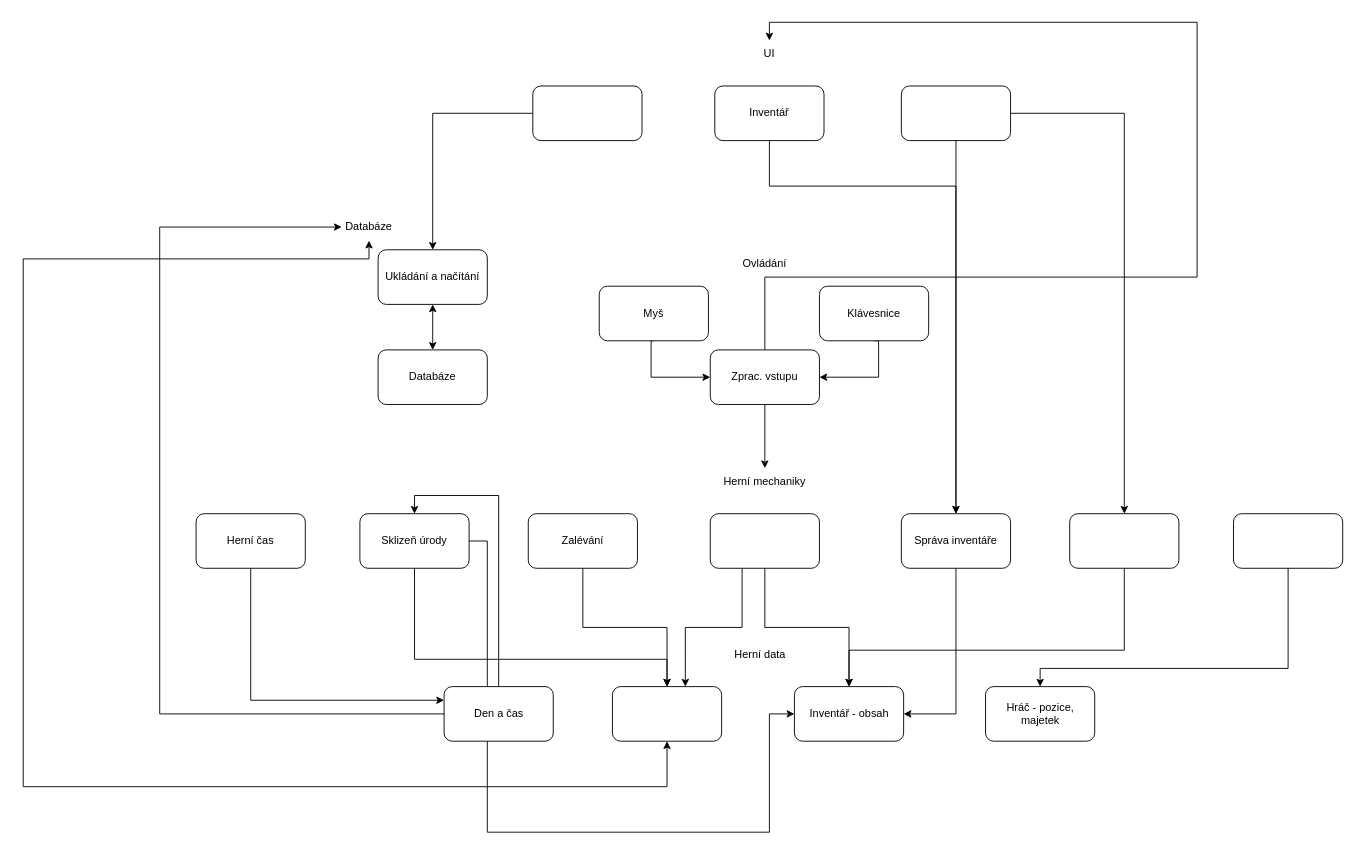
Image size: 1359x855. Some labels were removed from this diagram. The shapes that lost their labels are listed below. From the top down, each one's box as (x1, y1, x2, y2) in pixels, then its label:
(532, 85, 642, 141): Hlavní menu
(900, 85, 1011, 141): Obchod
(709, 513, 819, 568): Farmaření (sázení věcí)
(1069, 513, 1179, 568): Nákup, prodej věcí
(1233, 513, 1343, 568): Pohyb hráče
(612, 686, 722, 741): Pole, plodiny (?)
